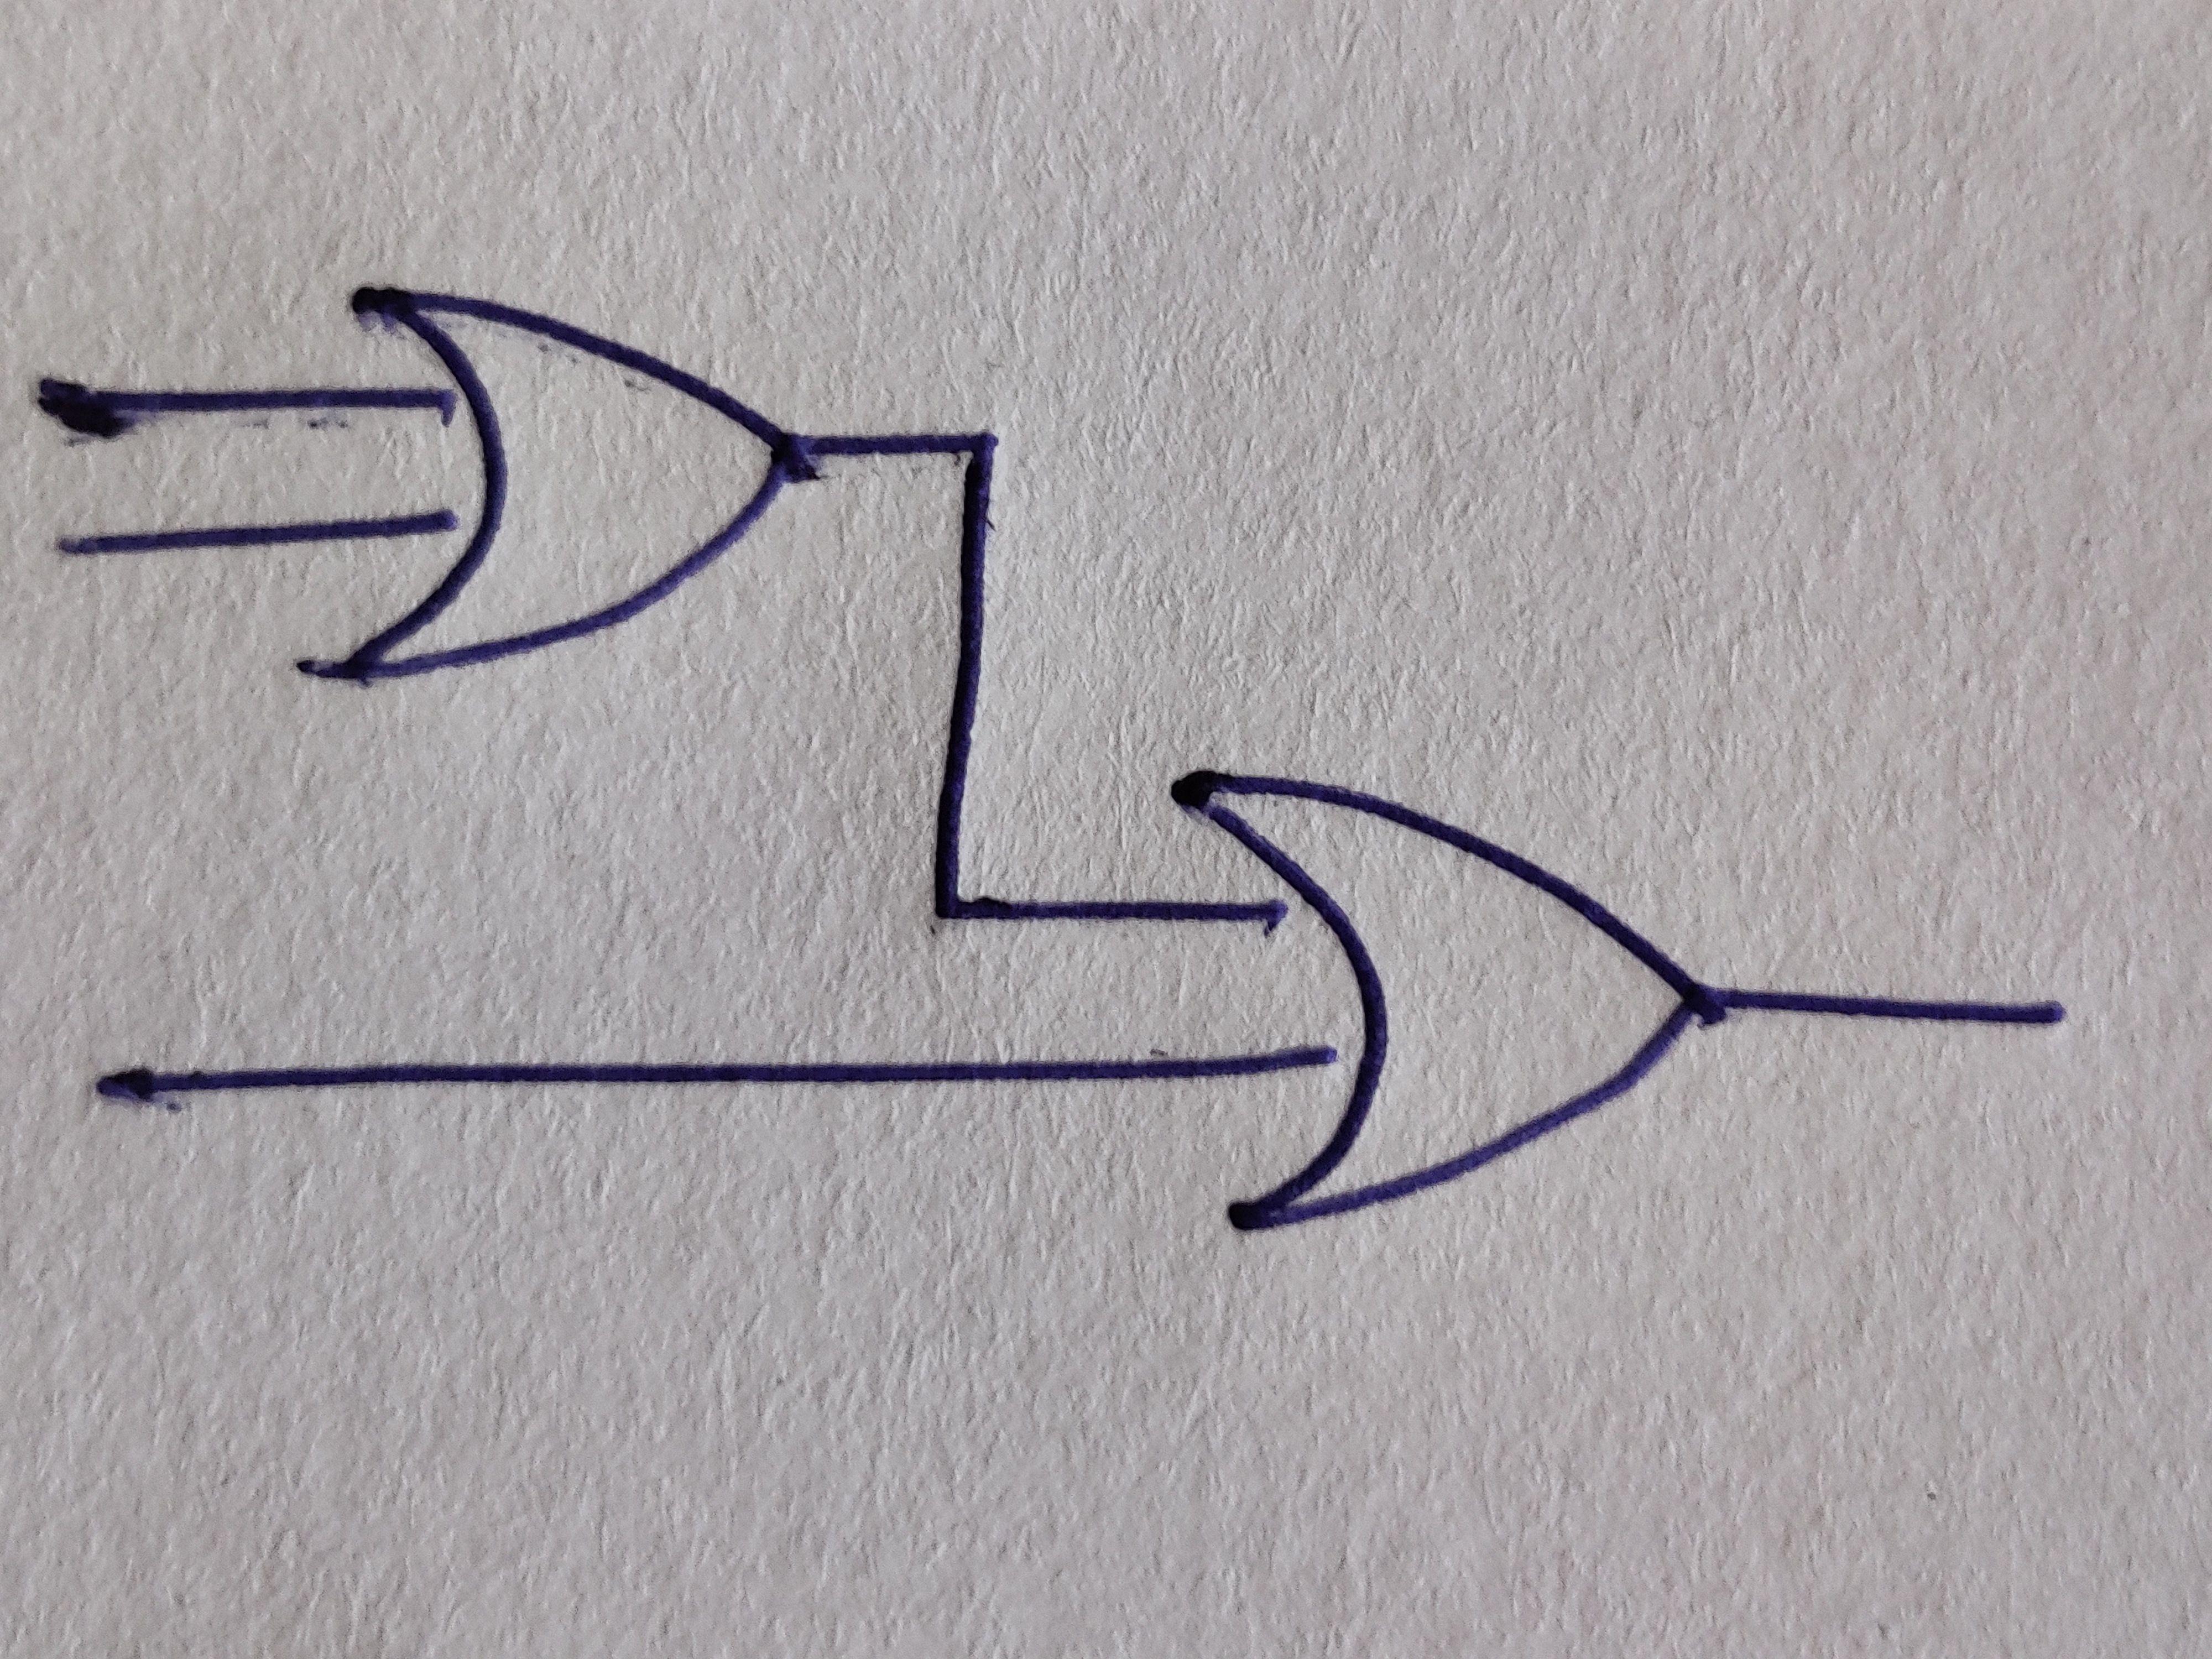or: (1169, 772, 1703, 1237), (298, 289, 789, 680)
